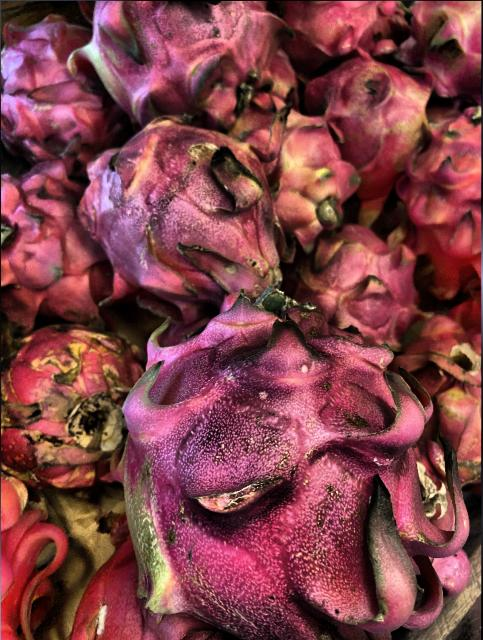buah-naga-belum-matang: (85, 122, 286, 302), (76, 0, 280, 120), (293, 58, 441, 176), (287, 216, 421, 338), (250, 114, 358, 242), (404, 0, 483, 97)
buah-naga-matang: (123, 318, 469, 632), (1, 312, 136, 486), (3, 21, 127, 155), (0, 170, 108, 318), (394, 320, 483, 481), (414, 106, 482, 250)
